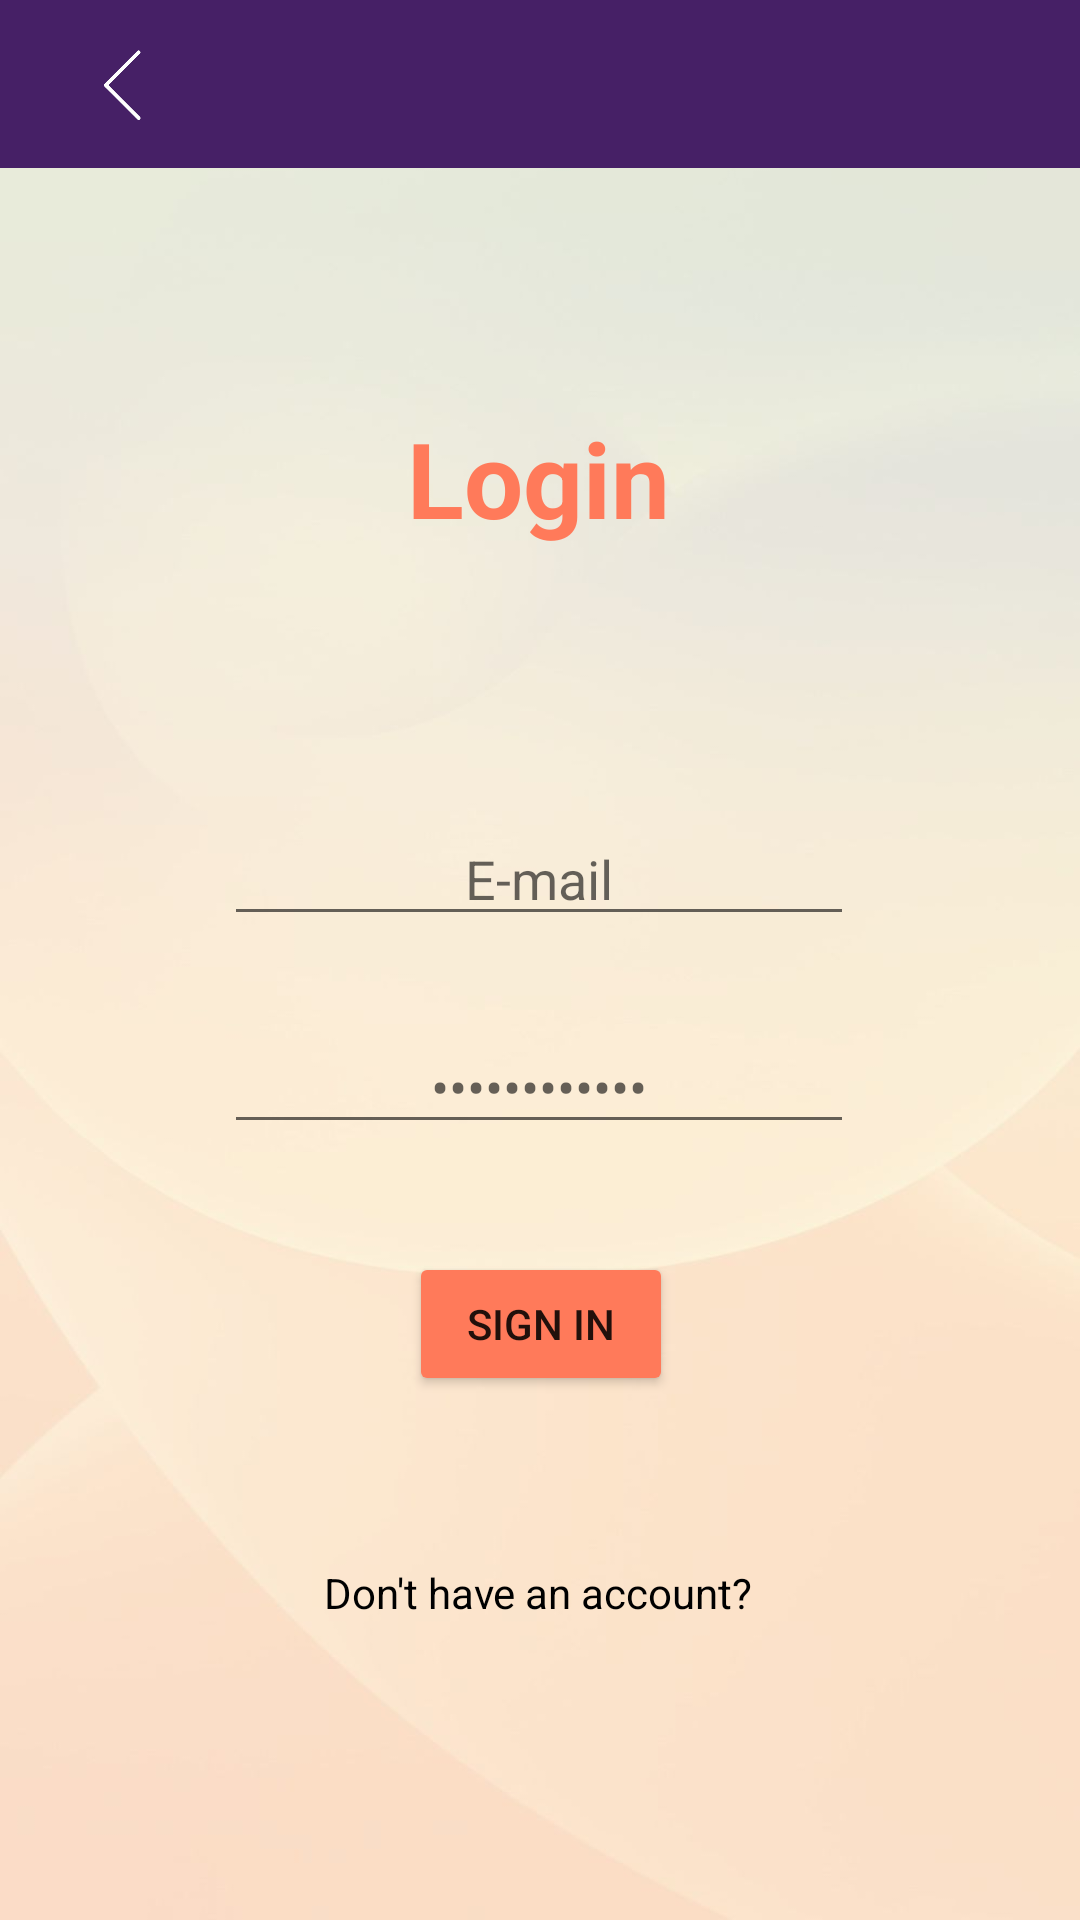

Icon click points for this 1080 x 1920 phone screenshot, format (x=x, y=y):
flecha izquierda: (x=122, y=85)
